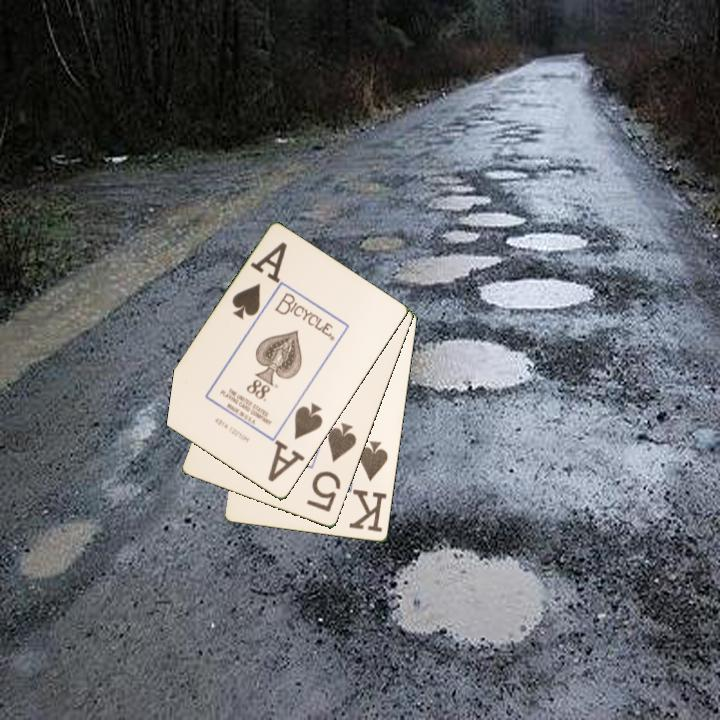5s: (303, 419, 360, 515)
As: (228, 239, 290, 323), (270, 400, 326, 477)
Ks: (346, 437, 391, 536)
